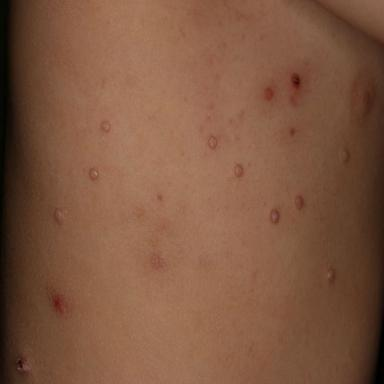Molluscum-Contagiosum: (54, 207, 65, 224), (294, 195, 304, 209), (264, 87, 274, 101), (326, 268, 335, 283), (270, 209, 279, 224), (208, 135, 217, 149), (235, 163, 243, 178), (341, 149, 349, 163), (89, 168, 98, 180), (101, 120, 110, 132), (157, 195, 162, 200)
